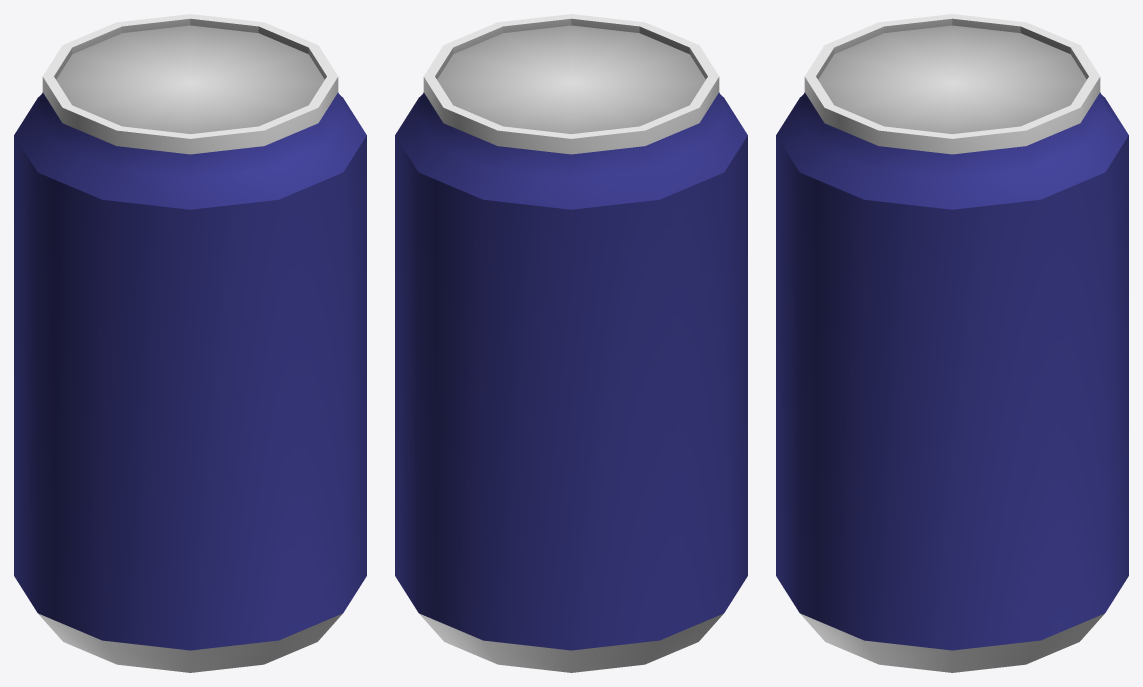
The model's file is drinkcan01.fbx.
3 renders of one model, left to right at view 1: azimuth 30°, elevation 25°; view 2: azimuth 150°, elevation 25°; view 3: azimuth 270°, elevation 25°, orthographic.
Visible parts, largest first — view 1: drinkcan01 1; view 2: drinkcan01 1; view 3: drinkcan01 1.
Boxes of the visible parts, <box> form: drinkcan01 1: <box>14,14,366,672</box>; drinkcan01 1: <box>395,14,747,672</box>; drinkcan01 1: <box>776,14,1128,672</box>.
Size of the model in its own units: 0.0629 by 0.1051 by 0.0629.
